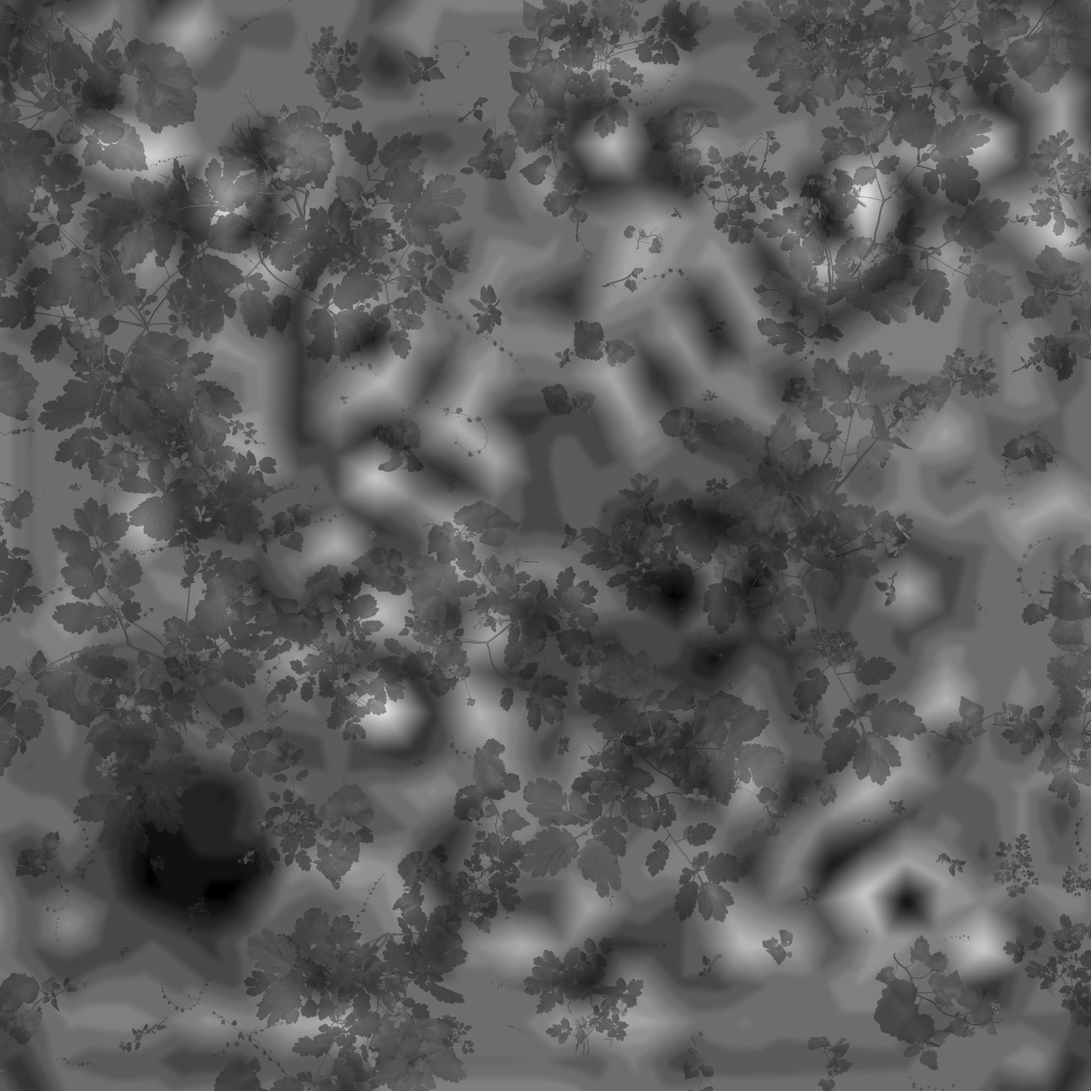landmine: (112, 783, 268, 925), (632, 499, 778, 638)
